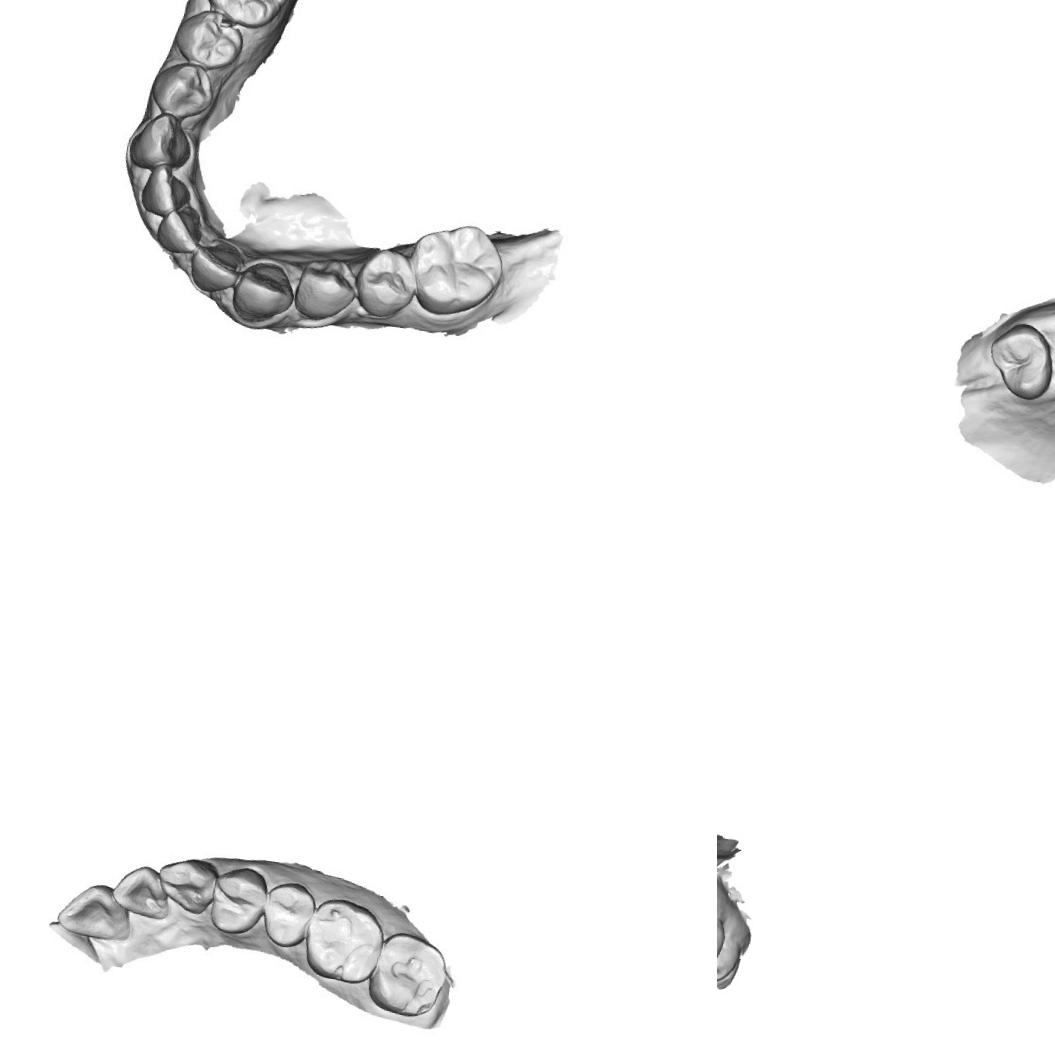canine: (293, 255, 361, 329), (152, 851, 219, 919), (128, 114, 194, 172)
incisor: (52, 878, 134, 948), (230, 259, 300, 334), (188, 232, 250, 298), (108, 861, 172, 920), (140, 162, 196, 223), (156, 199, 203, 260)
molar: (406, 217, 505, 317), (298, 894, 387, 988), (363, 927, 450, 1022), (207, 0, 302, 32)
premolar: (982, 313, 1055, 406), (205, 862, 272, 939), (356, 245, 419, 316), (257, 880, 319, 952), (174, 8, 240, 72), (151, 59, 216, 122)
